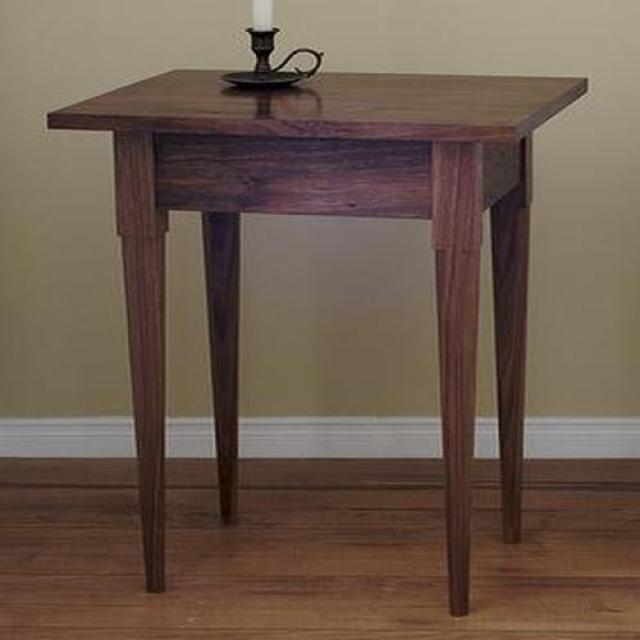table: (47, 69, 588, 617)
